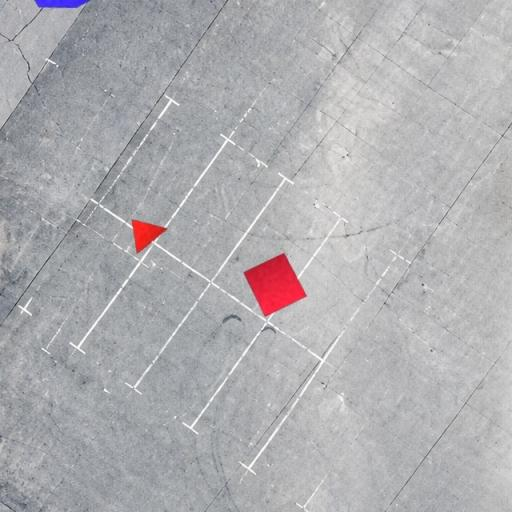RED_SQUARE: (243, 253, 308, 317)
